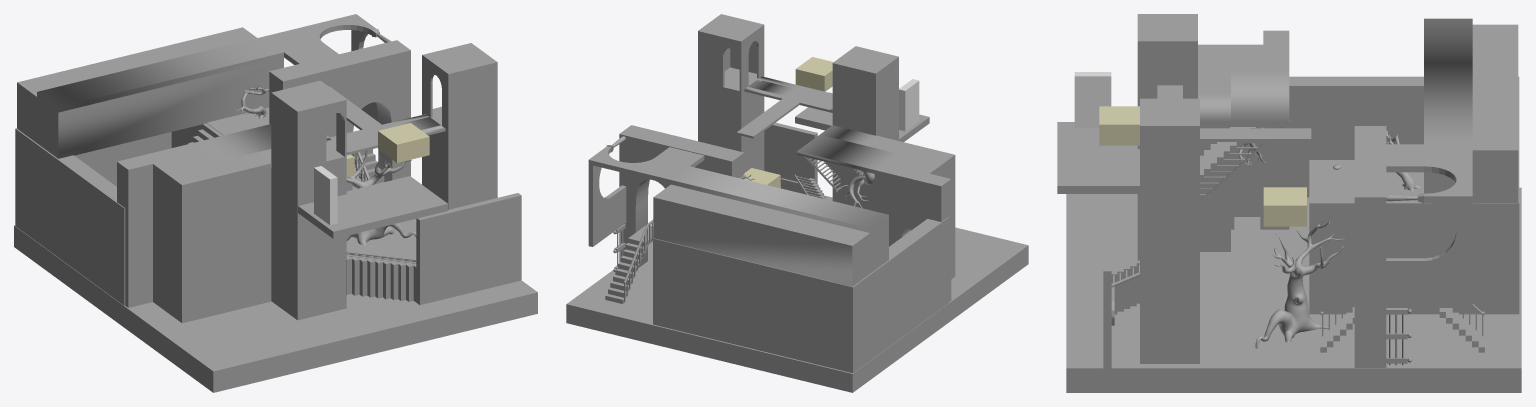
File: level3.fbx
3 renders of one model, left to right at view 1: azimuth 30°, elevation 25°; view 2: azimuth 150°, elevation 25°; view 3: azimuth 270°, elevation 25°, orthographic. The views are drawn at different scales.
Visible parts, largest first — view 1: pCube11, Circle1, Plane.003, Cube.051, pCube12, Cube.052, pCube13, pCube16, Cube.056, pCube15, polySurface739, pCube17 (+1 smaller); view 2: pCube12, Plane.003, pCube11, Circle1, Cube.051, Cube.052, pCube13, pCube15, Cube.050, pCube16, pCube17, Rambarde4.004 (+2 smaller); view 3: pCube11, pCube12, Plane.003, Cube.052, Circle1, pCube13, Cube.051, pCube16, polySurface739, pCube17, pCube14, pCube15 (+7 smaller).
Boxes of the visible parts, bbox=[...] form: pCube11: bbox=[14, 167, 537, 392]; Circle1: bbox=[117, 124, 271, 323]; Plane.003: bbox=[17, 14, 378, 158]; Cube.051: bbox=[271, 80, 445, 320]; pCube12: bbox=[15, 107, 329, 305]; Cube.052: bbox=[422, 43, 497, 209]; pCube13: bbox=[269, 40, 410, 191]; pCube16: bbox=[298, 176, 447, 238]; Cube.056: bbox=[346, 256, 398, 300]; pCube15: bbox=[378, 123, 429, 162]; polySurface739: bbox=[346, 131, 416, 246]; pCube17: bbox=[314, 166, 337, 224]; pCube12: bbox=[653, 217, 949, 373]; Plane.003: bbox=[588, 146, 888, 286]; pCube11: bbox=[566, 122, 1028, 392]; Circle1: bbox=[797, 125, 955, 301]; Cube.051: bbox=[736, 46, 898, 208]; Cube.052: bbox=[698, 14, 764, 172]; pCube13: bbox=[619, 125, 744, 267]; pCube15: bbox=[795, 57, 833, 91]; Cube.050: bbox=[605, 243, 645, 303]; pCube16: bbox=[795, 92, 929, 141]; pCube17: bbox=[899, 79, 919, 131]; Rambarde4.004: bbox=[623, 219, 653, 301]; pCube11: bbox=[1066, 187, 1521, 392]; pCube12: bbox=[1289, 76, 1519, 314]; Plane.003: bbox=[1386, 18, 1518, 307]; Cube.052: bbox=[1140, 98, 1199, 363]; Circle1: bbox=[1198, 30, 1289, 251]; pCube13: bbox=[1354, 126, 1386, 367]; Cube.051: bbox=[1137, 14, 1311, 260]; pCube16: bbox=[1057, 122, 1139, 193]; polySurface739: bbox=[1255, 219, 1344, 348]; pCube17: bbox=[1074, 72, 1111, 128]; pCube14: bbox=[1263, 187, 1306, 226]; pCube15: bbox=[1099, 106, 1139, 145].
Size of the model in its own units: 113 by 77.46 by 122.
